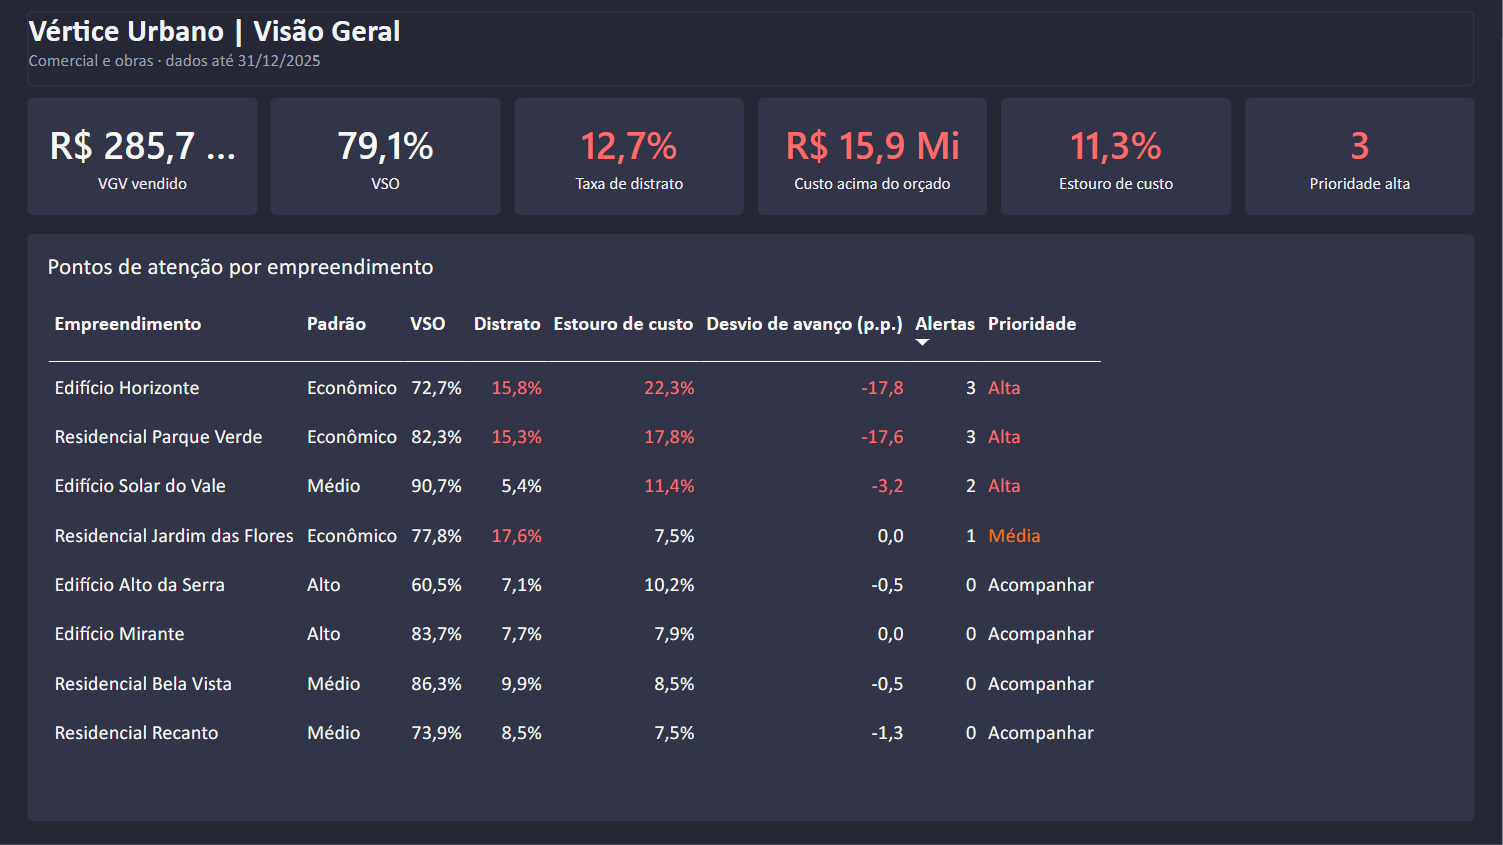

This screenshot's page, from the dashboard's own definition file:
{"tool":"powerbi","page":{"name":"Visão Geral","canvas":[1280,720],"ordinal":0},"visuals":[{"type":"textbox","box":[24,10,1232,64],"z":0},{"type":"card","fields":{"Values":["_measures.Sold VGV"]},"box":[24.3,83.6,195.5,100.2],"z":1000},{"type":"card","fields":{"Values":["_measures.VSO %"]},"box":[231.3,84,195.3,100],"z":2000},{"type":"card","fields":{"Values":["_measures.Cancel Rate %"]},"box":[438.7,84,195.3,100],"z":3000},{"type":"card","fields":{"Values":["_measures.Cost Overrun"]},"box":[646,84,195.3,100],"z":4000},{"type":"card","fields":{"Values":["_measures.Cost Overrun %"]},"box":[853.3,84,195.3,100],"z":5000},{"type":"card","fields":{"Values":["_measures.High Priority Developments"]},"box":[1060.7,84,195.3,100],"z":6000},{"type":"tableEx","title":"Pontos de atenção por empreendimento","fields":{"Values":["developments.development_name","developments.standard","_measures.VSO %","_measures.Cancel Rate %","_measures.Cost Overrun %","_measures.Progress Gap","_measures.Alerts","_measures.Priority"]},"box":[24,200,1232,500],"z":7000}]}

Visuals, with their boxes in screenshot pixels (x1, y1, x2, y2), scaled from the page's 1280x720 canvas onto the 1503x845 screenshot:
textbox: bbox=(28, 12, 1475, 87)
card - _measures.Sold VGV: bbox=(29, 98, 258, 216)
card - _measures.VSO %: bbox=(272, 99, 501, 216)
card - _measures.Cancel Rate %: bbox=(515, 99, 744, 216)
card - _measures.Cost Overrun: bbox=(759, 99, 988, 216)
card - _measures.Cost Overrun %: bbox=(1002, 99, 1231, 216)
card - _measures.High Priority Developments: bbox=(1245, 99, 1475, 216)
"Pontos de atenção por empreendimento" tableEx: bbox=(28, 235, 1475, 822)
